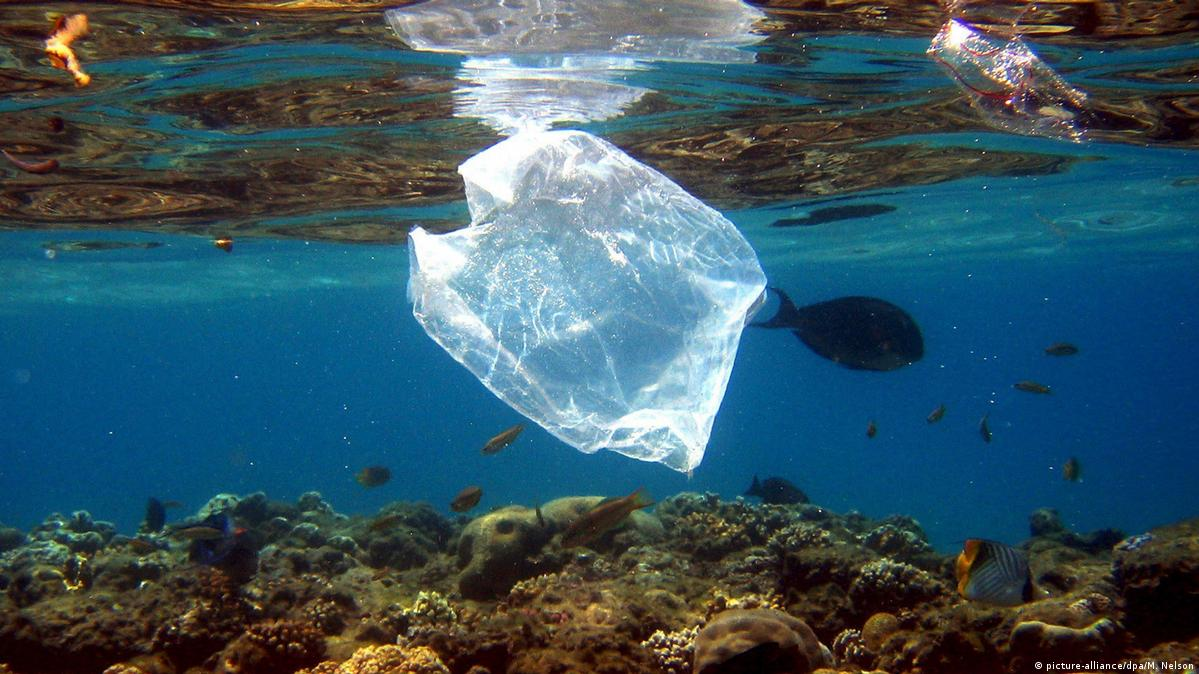Fish: (924, 19, 1082, 144), (941, 523, 1055, 612), (552, 489, 660, 550), (476, 421, 535, 459)
Plastic: (401, 130, 775, 470), (753, 285, 937, 377)
